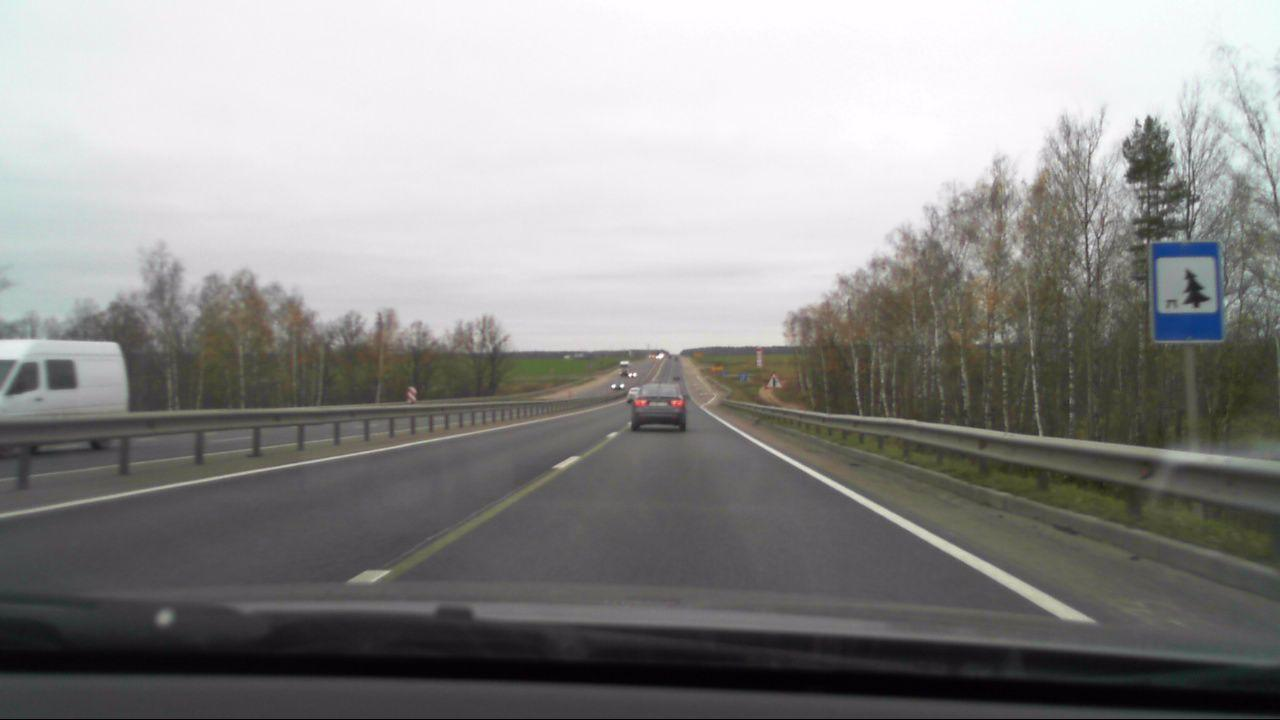2_3_2: (765, 371, 784, 390)
5_15_3: (736, 371, 748, 383)
7_11: (1155, 242, 1221, 343)
